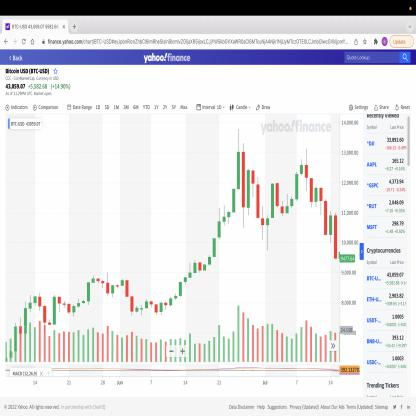Bearish: 3 Black Crows: (250, 167, 265, 243)
Bullish: 3 White Soldiers: (227, 127, 241, 226), (207, 206, 221, 268)
